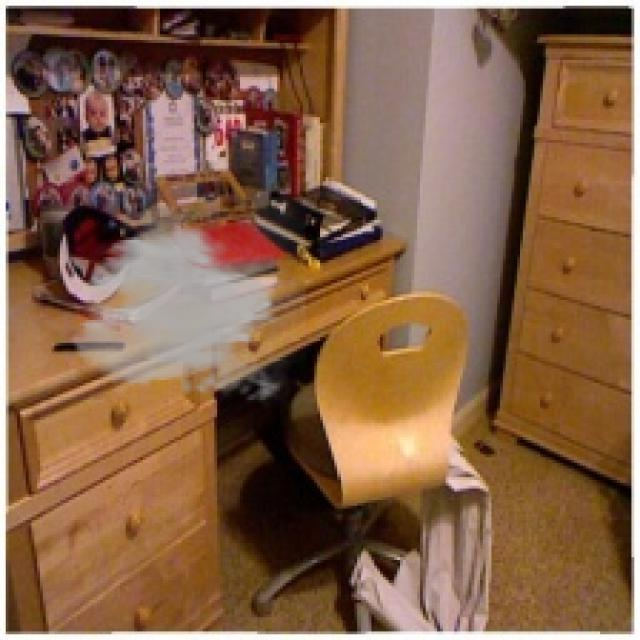smoke: (68, 197, 306, 409)
